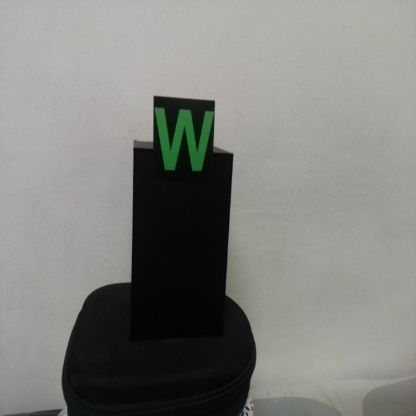id_12: (153, 96, 216, 193)
